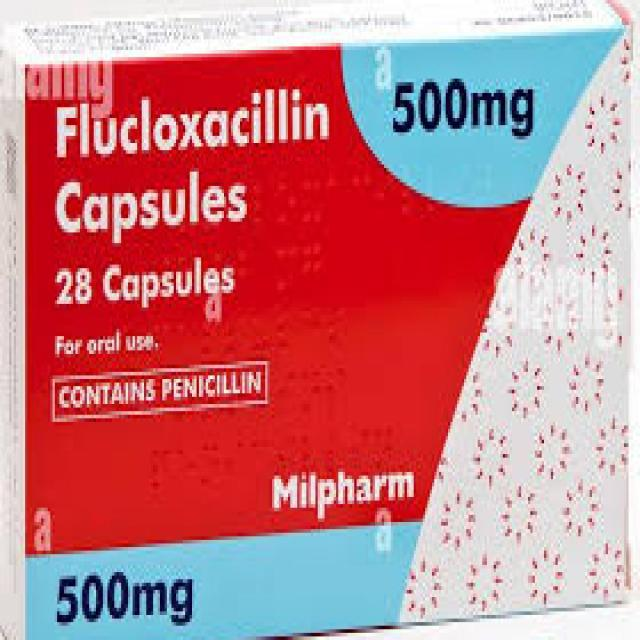drug-name: (51, 85, 332, 160)
